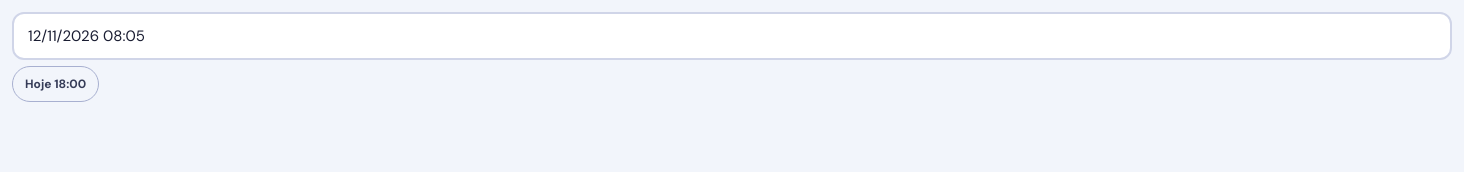
Test: DateTimeField › mostra dd/mm/aaaa hh:mm e entrega o valor interno
The image size is (1464, 172).
Replace the text in the field named "saida" with "131120261900". click: (732, 36)
box: [12,12,1452,60]
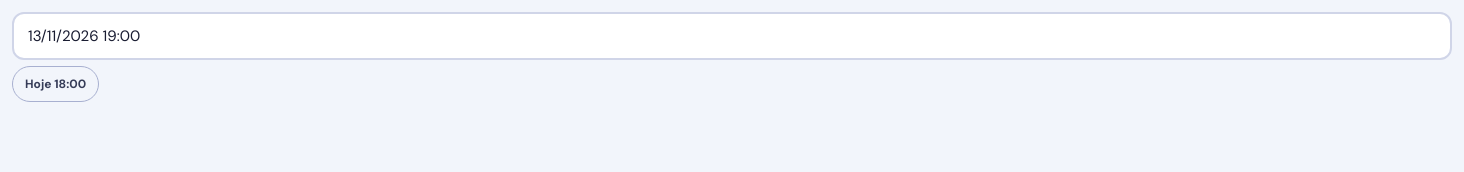
Expected: the field named "saida" holds "13/11/2026 19:00", [12,12,1452,60]
